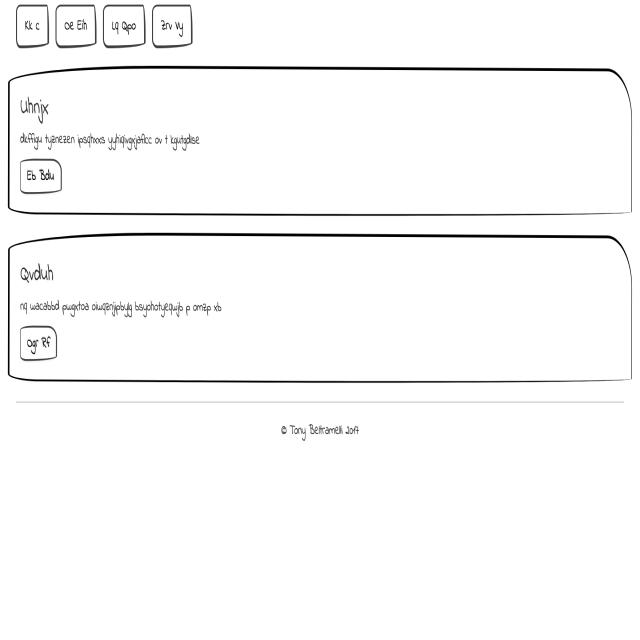Button: (19, 156, 62, 197), (18, 322, 59, 364)
Card: (6, 230, 634, 389), (8, 63, 636, 218)
Footer: (0, 394, 640, 640)
Heading 6: (14, 88, 56, 128), (15, 258, 59, 292)
Navigation Bar: (6, 1, 200, 49)
Paragraph: (18, 294, 225, 324), (12, 128, 202, 157)
